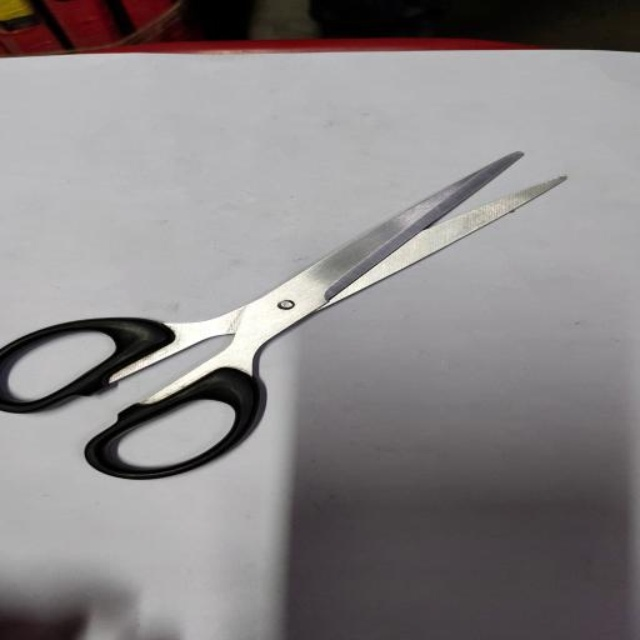scissor: (0, 145, 575, 485)
